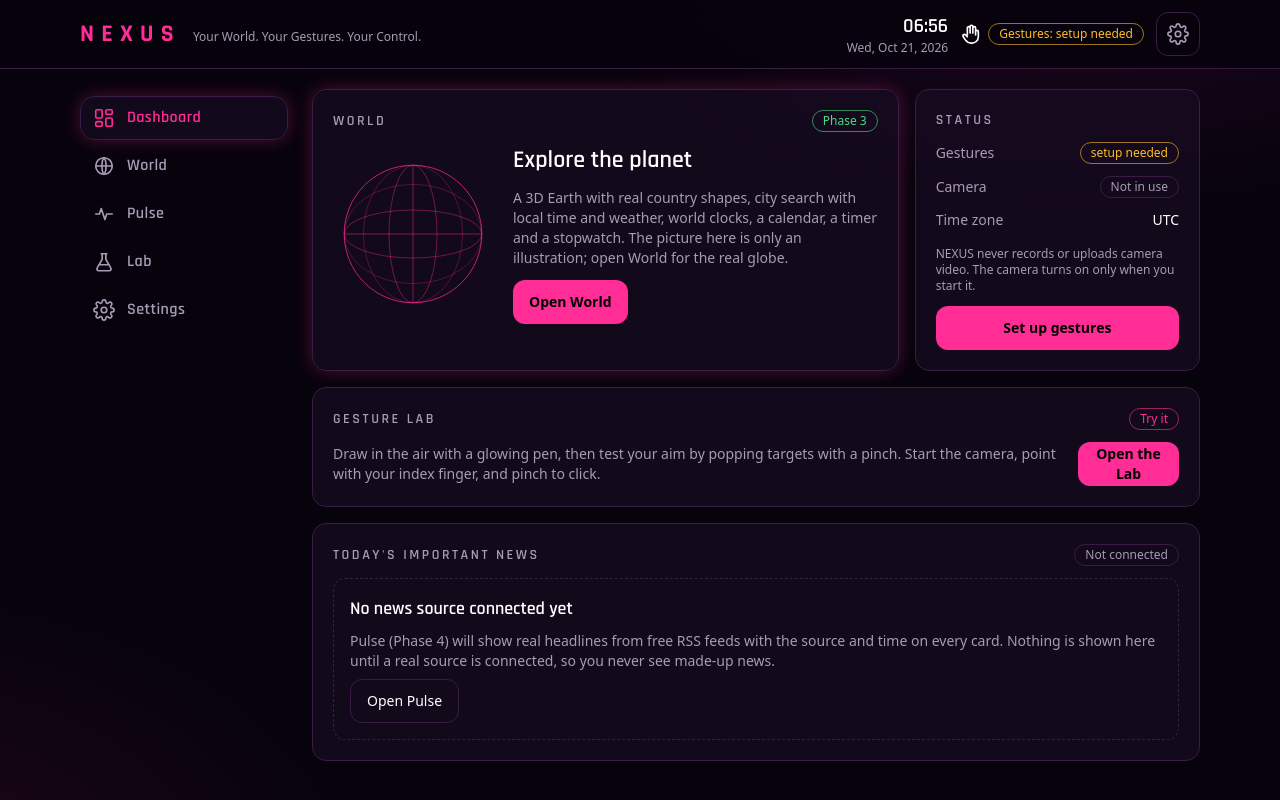
Test: setup wizard (without a camera) › opens from the dashboard "Set up gestures" button
This screenshot has width=1280, height=800.
Click the button "Set up gestures" at (1057, 328), box [936,306,1179,350]
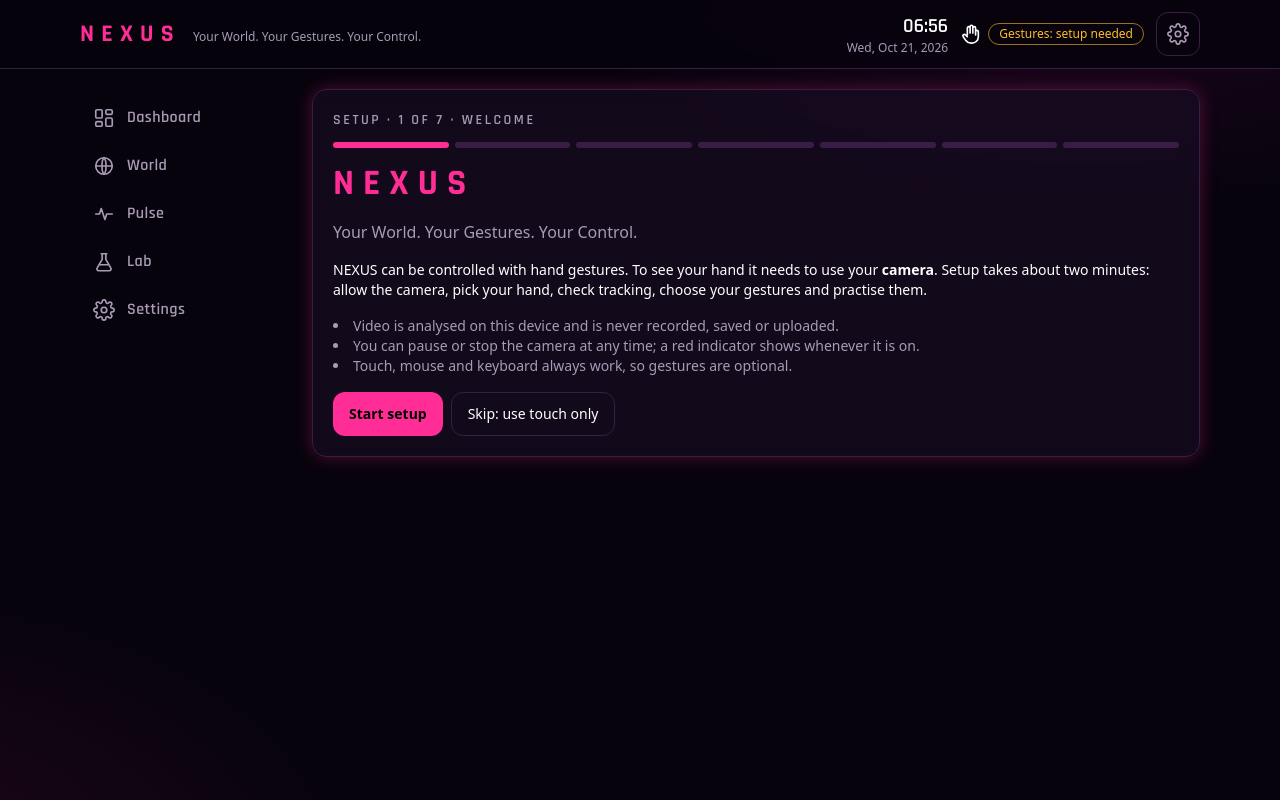
Expected: the button "Start setup" is shown, [333,392,443,436]
